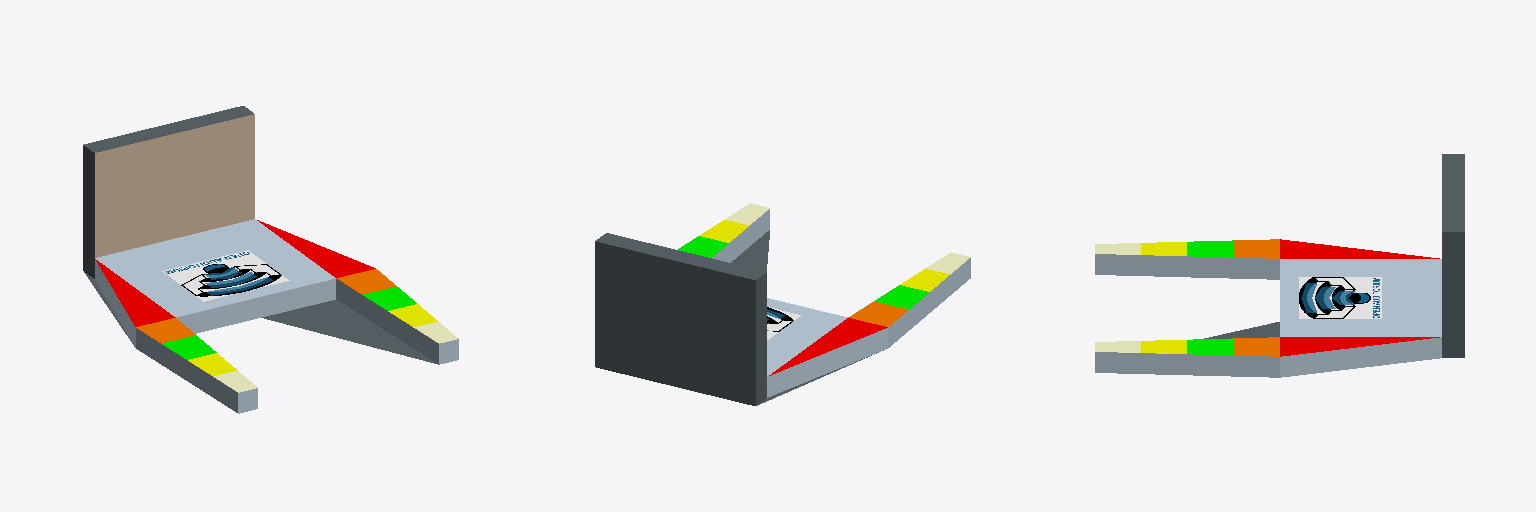
The picture shows the model from 3 angles: view 1: azimuth 30°, elevation 25°; view 2: azimuth 150°, elevation 25°; view 3: azimuth 270°, elevation 25°; orthographic projection.
Parts seen in each view (by area): view 1: Mesh1 Model, Mesh2 Model; view 2: Mesh1 Model, Mesh2 Model; view 3: Mesh1 Model, Mesh2 Model.
Part boxes in pixels (x1,y1,x2,y2): Mesh1 Model: (83,106,458,413); Mesh2 Model: (162,250,289,301); Mesh1 Model: (595,203,970,405); Mesh2 Model: (767,307,801,339); Mesh1 Model: (1095,154,1464,377); Mesh2 Model: (1299,277,1381,318).
Size of the model in its own units: 3 by 1.5 by 4.
Materials: 9 (2 with a texture image).